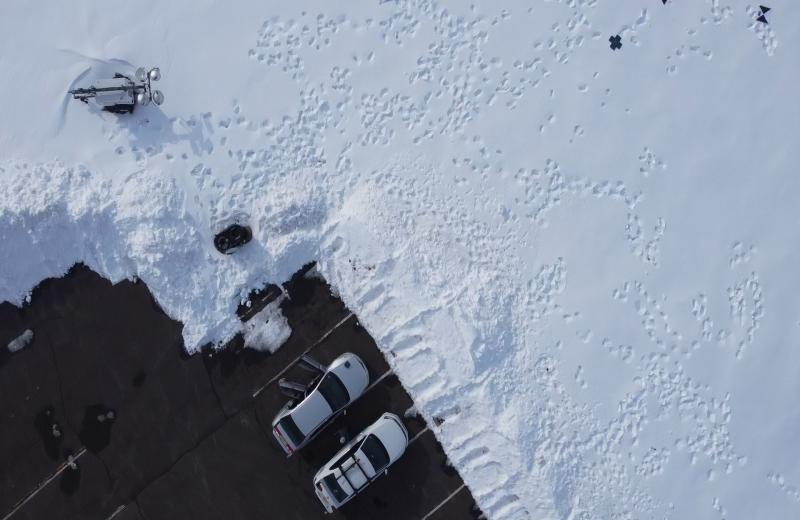Cross: (606, 34, 625, 54)
